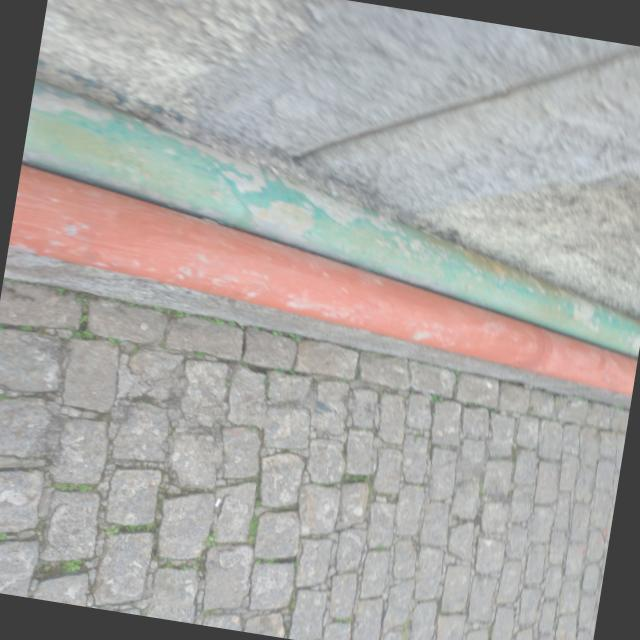gas: (22, 81, 619, 347), (7, 165, 613, 390)
